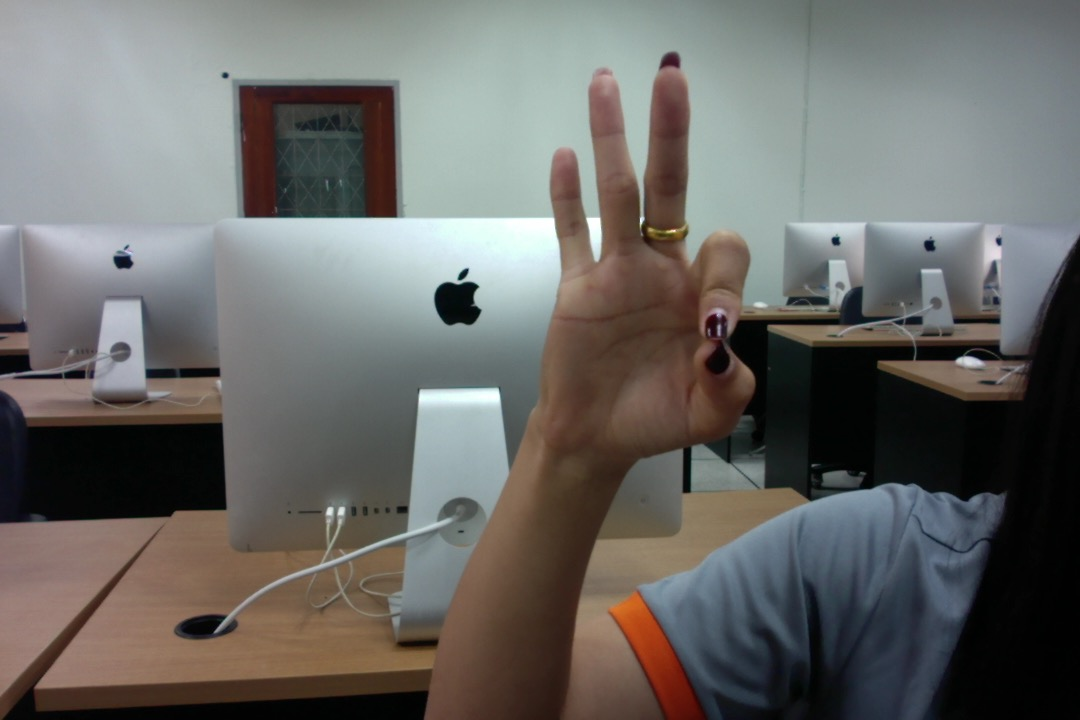for: (517, 42, 766, 478)
